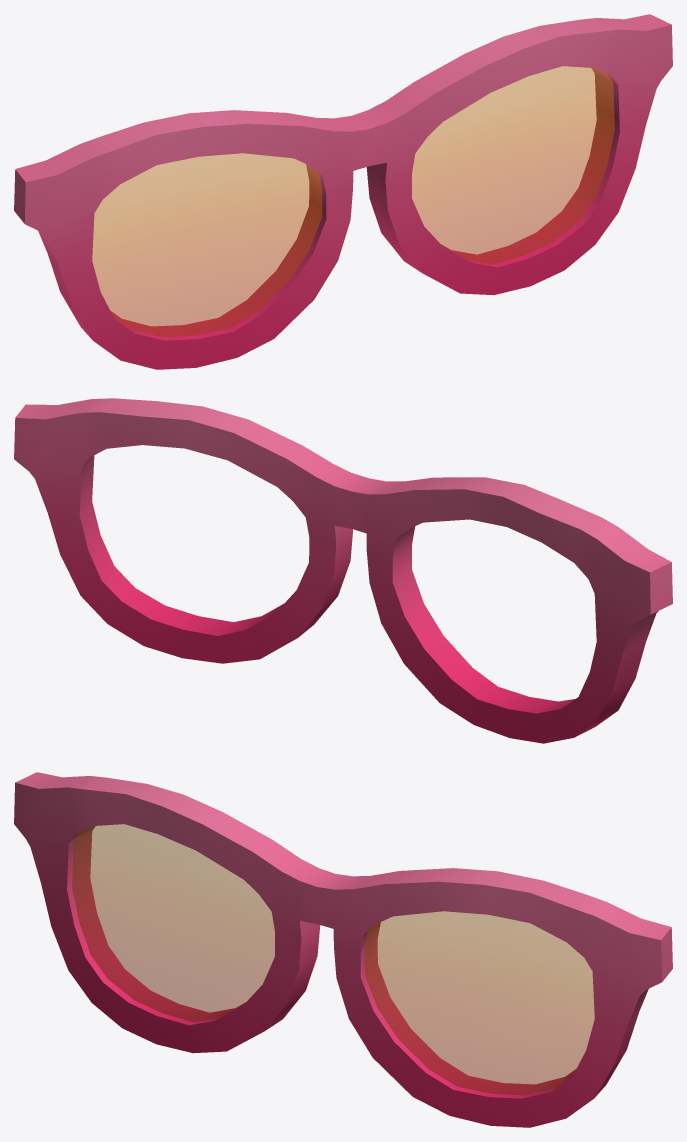
File: Glasses_13.glb
3 renders of one model, top to bottom at view 1: azimuth 30°, elevation 25°; view 2: azimuth 150°, elevation 25°; view 3: azimuth 330°, elevation 25°, orthographic.
Parts seen in each view (by area): view 1: Glasses_13; view 2: Glasses_13; view 3: Glasses_13.
Boxes of the visible parts, x1,y1,x2,y2 form: Glasses_13: [14, 14, 672, 369]; Glasses_13: [14, 398, 672, 743]; Glasses_13: [14, 772, 672, 1127].
Size of the model in its own units: 0.4885 by 0.1725 by 0.0494.
Materials: 2 (2 with a texture image).
